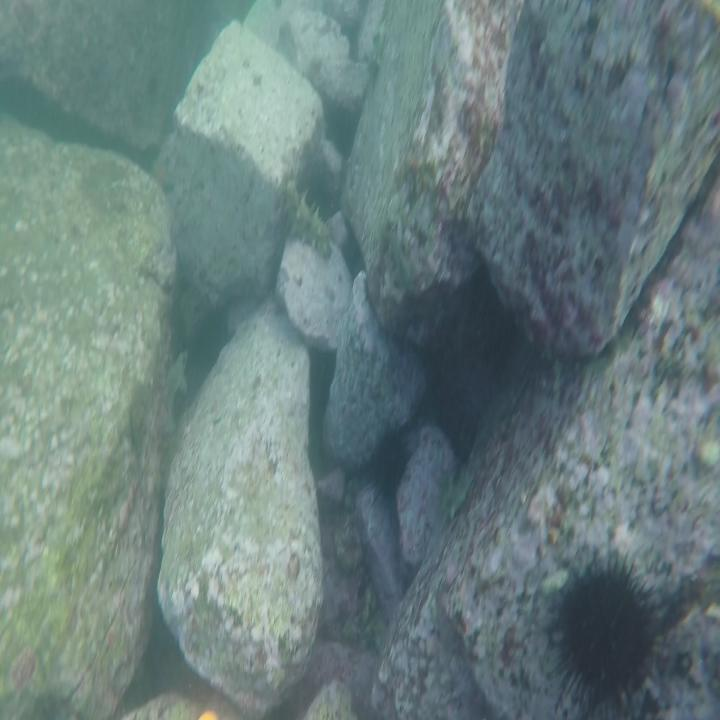echinus: (551, 549, 655, 711), (364, 428, 413, 505)
holothurian: (282, 178, 338, 261)
